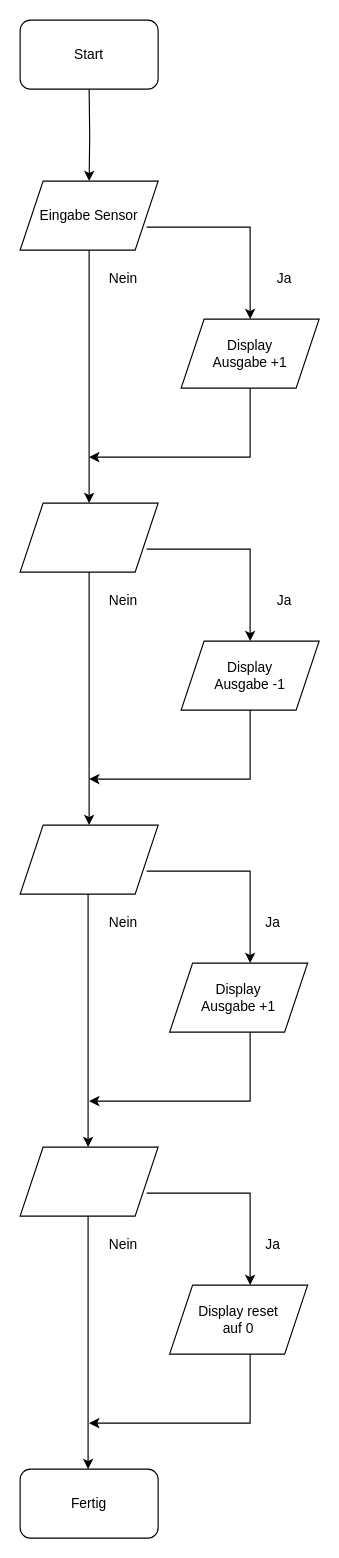
Some shapes in this 339 by 1558 pixel diagram are drawn without their labels. The shapes that lost their labels are listed below. From the top down, each one's centre as x and y in pixels, then its label:
At [88,537]: "Button A gedrückt".
At [88,859]: "Button B gedrückt".
At [88,1181]: "Reset Taster gedrückt".
